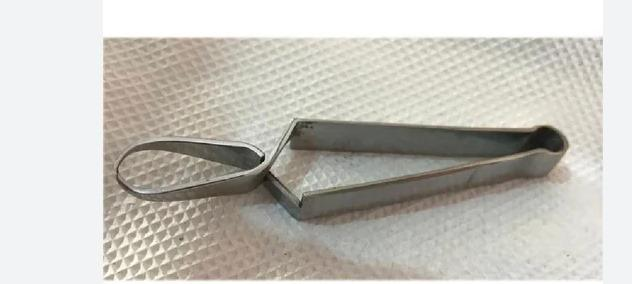Doyen Cross Action Towel Clamp: (113, 114, 570, 223)
